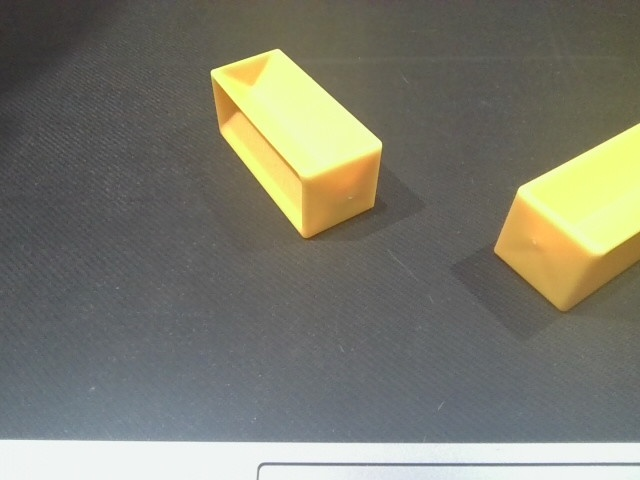YellowSample: (207, 45, 387, 242), (490, 118, 640, 312)
